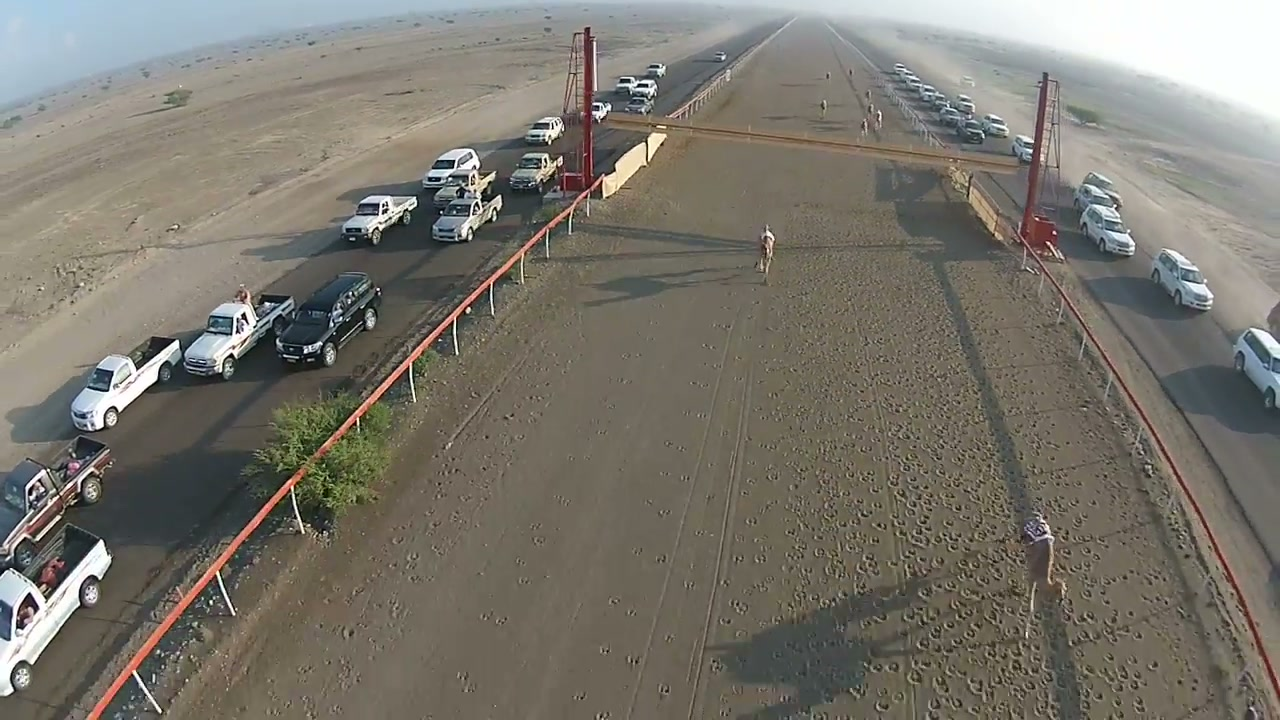animal_footprint: (868, 280, 1024, 719), (593, 311, 762, 709)
